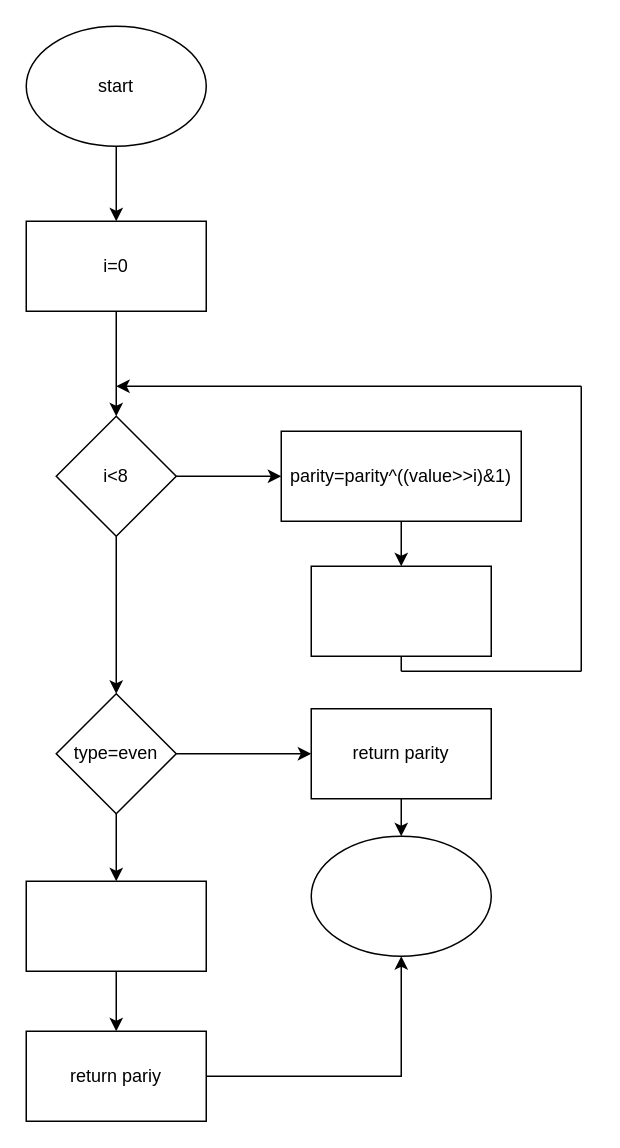
Image size: 620x1148. Some labels were removed from this diagram. Each missing label, with the box of its shape:
end: (310, 835, 491, 956)
i++: (310, 565, 491, 656)
parity=parity^1: (25, 880, 206, 971)
